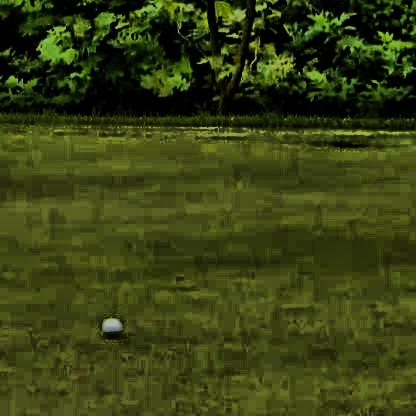golfball: (98, 314, 120, 336)
